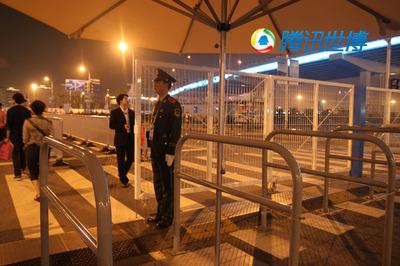up: (144, 66, 184, 228), (22, 99, 54, 196), (108, 93, 136, 190), (6, 88, 31, 167)
